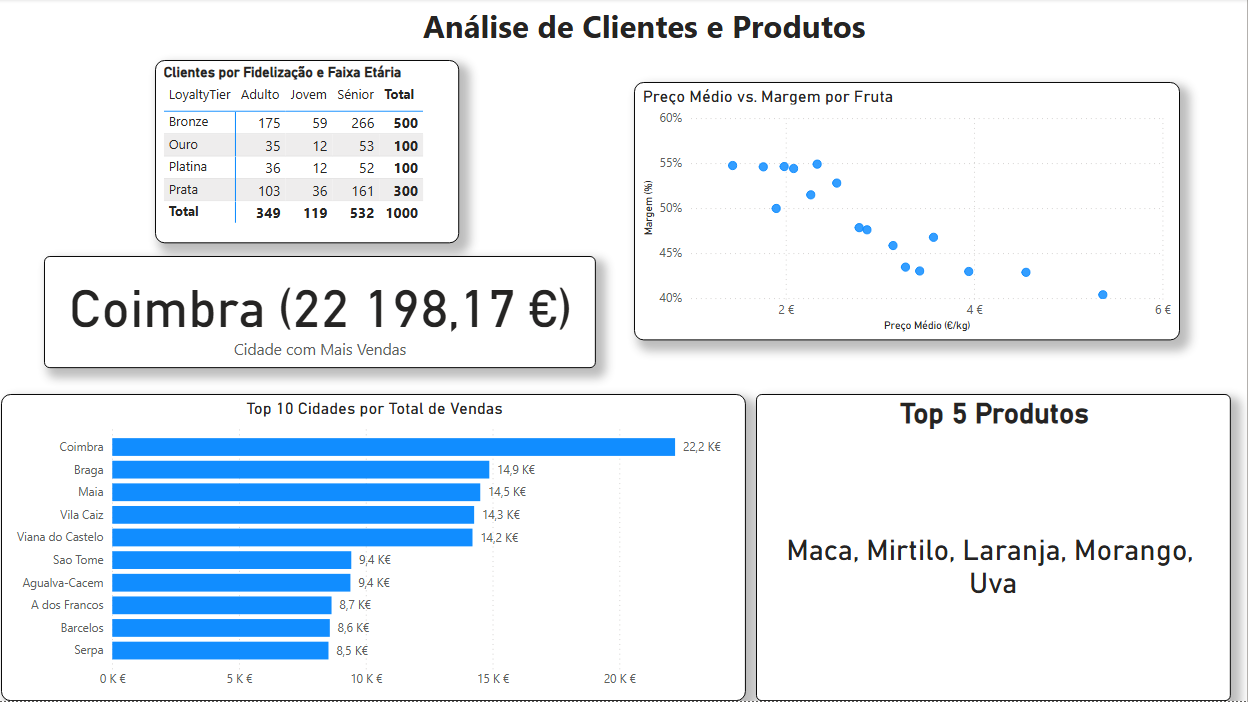

Layout of this report page (visuals, bound fields, positions):
{"tool":"powerbi","page":{"name":" Análise de Clientes e Produtos","canvas":[1280,720],"ordinal":1},"visuals":[{"type":"pivotTable","title":"Clientes por Fidelização e Faixa Etária","fields":{"Rows":["DimCostumer.LoyaltyTier"],"Columns":["DimCostumer.FaixaEtaria"],"Values":["DimCostumer.Nr_Clientes"]},"box":[160,62.6,311.8,187.7],"z":0},{"type":"clusteredBarChart","title":"Top 10 Cidades por Total de Vendas","fields":{"Category":["DimCostumer.City"],"Y":["DimCostumer.Total_Vendas"]},"box":[2.1,405.1,764.1,314.9],"z":1000},{"type":"scatterChart","title":"Preço Médio vs. Margem por Fruta","fields":{"X":["DimCostumer.Preco_Medio_kg"],"Y":["DimCostumer.% Margem"],"Category":["DimProduct.FruitName"]},"box":[651.3,85.1,560,264.6],"z":2000},{"type":"card","fields":{"Values":["DimCostumer.Cidade_Top_Vendas"]},"box":[46.2,263.6,566.2,114.9],"z":3000},{"type":"card","title":"Top 5 Produtos","fields":{"Values":["DimCostumer.Top_5_Produtos"]},"box":[776.4,405.1,487.2,314.9],"z":4000},{"type":"textbox","box":[429.7,0,488.2,53.3],"z":4001}]}

Visuals, with their boxes in screenshot pixels (x1, y1, x2, y2), scaled from the page's 1280x720 canvas onto the 1248x702 screenshot:
"Clientes por Fidelização e Faixa Etária" pivotTable: {"x1": 156, "y1": 61, "x2": 460, "y2": 244}
"Top 10 Cidades por Total de Vendas" clusteredBarChart: {"x1": 2, "y1": 395, "x2": 747, "y2": 701}
"Preço Médio vs. Margem por Fruta" scatterChart: {"x1": 635, "y1": 83, "x2": 1181, "y2": 341}
card - DimCostumer.Cidade_Top_Vendas: {"x1": 45, "y1": 257, "x2": 597, "y2": 369}
"Top 5 Produtos" card: {"x1": 757, "y1": 395, "x2": 1232, "y2": 701}
textbox: {"x1": 419, "y1": 0, "x2": 895, "y2": 52}
